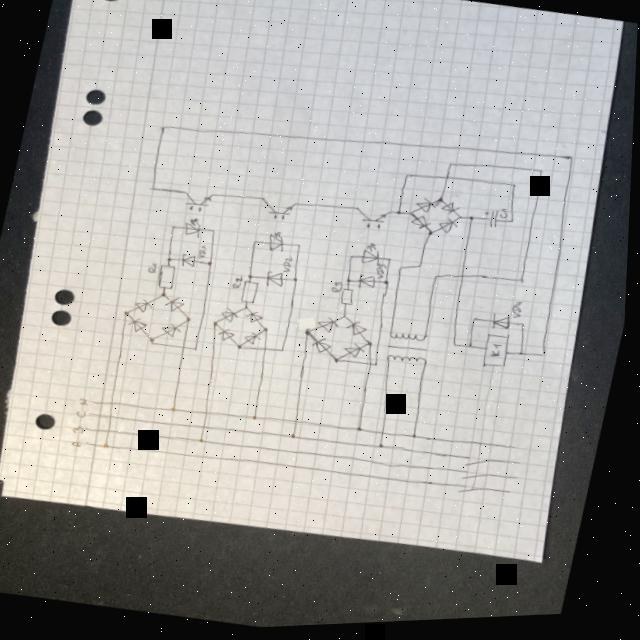capacitor: (481, 211, 501, 233)
crossover: (179, 344, 190, 354), (293, 419, 303, 429), (442, 177, 453, 186), (107, 428, 117, 437), (108, 413, 118, 422), (110, 399, 120, 408), (202, 425, 212, 434), (204, 411, 214, 420), (262, 347, 272, 356), (380, 432, 390, 441), (458, 275, 468, 284), (367, 363, 376, 371)
diode: (264, 270, 288, 292), (317, 317, 342, 338), (160, 322, 185, 341), (343, 344, 368, 363), (346, 322, 371, 341), (165, 296, 187, 316), (312, 339, 334, 359), (492, 316, 514, 336), (128, 317, 151, 336), (438, 220, 460, 239), (133, 298, 156, 316), (221, 307, 242, 326), (415, 200, 437, 218), (410, 218, 432, 235), (439, 204, 462, 219), (358, 276, 377, 294), (245, 311, 266, 327), (181, 253, 198, 271), (219, 329, 237, 345), (245, 333, 263, 349)
junction: (149, 338, 160, 348), (253, 416, 263, 424), (236, 345, 246, 353), (185, 317, 195, 325), (432, 278, 442, 286), (366, 343, 376, 351), (149, 187, 158, 195), (379, 445, 388, 453), (412, 436, 421, 444), (451, 345, 460, 353), (541, 356, 550, 364), (456, 217, 465, 225), (403, 176, 412, 184), (344, 280, 353, 288), (171, 407, 181, 414), (357, 429, 367, 436), (262, 328, 272, 335), (206, 262, 216, 269), (246, 276, 256, 283), (295, 244, 305, 251), (470, 320, 480, 327), (415, 266, 425, 273), (406, 213, 416, 220), (394, 212, 404, 219), (208, 230, 218, 237), (381, 282, 391, 289), (293, 203, 303, 210), (386, 211, 396, 218), (104, 443, 113, 450), (200, 439, 209, 446), (193, 346, 202, 353), (292, 435, 301, 442), (278, 349, 287, 356), (333, 361, 342, 368), (212, 322, 221, 329), (122, 310, 131, 317), (160, 292, 169, 299), (166, 258, 175, 265), (242, 306, 251, 313), (292, 279, 301, 286), (250, 241, 259, 248), (468, 347, 477, 354), (518, 355, 527, 362), (520, 326, 529, 333), (396, 268, 405, 275), (518, 282, 527, 289), (509, 186, 518, 193), (508, 222, 517, 229), (467, 218, 476, 225), (536, 172, 545, 179), (566, 159, 575, 166), (446, 165, 455, 172), (426, 233, 435, 240), (436, 200, 445, 207), (385, 259, 394, 266), (348, 257, 357, 264), (341, 315, 350, 322), (305, 331, 314, 338), (352, 207, 361, 214), (258, 197, 267, 204), (158, 125, 167, 132), (169, 225, 178, 232), (374, 364, 383, 371), (183, 190, 192, 197), (211, 194, 220, 201)
resistor: (156, 264, 178, 293), (239, 281, 260, 307), (340, 290, 357, 309)
switch: (465, 458, 496, 475), (462, 472, 493, 488), (459, 487, 487, 501)
terminal: (507, 493, 517, 500), (515, 465, 525, 471), (86, 441, 95, 447), (86, 427, 95, 433), (88, 412, 97, 418), (91, 400, 100, 406), (512, 480, 521, 486), (510, 449, 519, 455)
text: (511, 303, 526, 324), (491, 346, 506, 363), (375, 266, 389, 284), (282, 258, 295, 275), (232, 277, 245, 293), (197, 246, 209, 262), (332, 284, 346, 297), (148, 263, 160, 275), (74, 425, 88, 435), (77, 409, 89, 420), (499, 212, 510, 223), (73, 440, 85, 450), (80, 398, 91, 407)
transformer: (383, 331, 434, 372)
